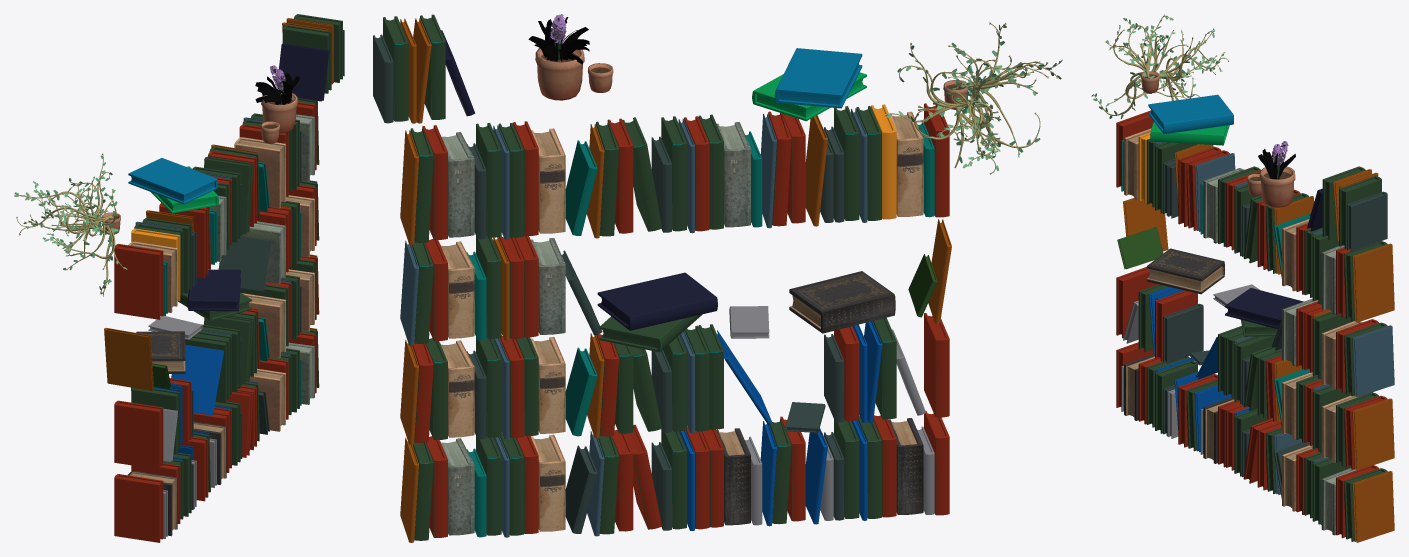
The model's file is shedBookshelfStuff.fbx.
3 renders of one model, left to right at view 1: azimuth 30°, elevation 25°; view 2: azimuth 150°, elevation 25°; view 3: azimuth 270°, elevation 25°, orthographic. The views are drawn at different scales.
Parts seen in each view (by area): view 1: book2 (×3), book4 (×7), book8 (×9), book5 (×8), book3 (×5), book10 (×4), book14 (×3), vineplant:vineLeafy1Main, book21, book25, book11 (×4), book32 (+19 smaller); view 2: book4 (×7), book8 (×9), book5 (×9), book11 (×8), book6 (×8), book12 (×8), book13 (×9), book9 (×10), book10 (×4), book3 (×7), book7 (×7), book2 (×3) (+32 smaller); view 3: book13 (×9), book8 (×9), book4 (×7), book5 (×9), book11 (×8), book12 (×8), book6 (×8), book10 (×4), book2 (×3), book14 (×4), vineplant:vineLeafy1Main, book9 (×2) (+26 smaller).
Boxes of the visible parts, x1,y1,x2,y2 form: book2 (×3): (114, 243, 163, 542); book4 (×7): (128, 137, 285, 536); book8 (×9): (169, 113, 299, 516); book5 (×8): (131, 124, 288, 523); book3 (×5): (163, 162, 270, 461); book10 (×4): (286, 114, 314, 404); book14 (×3): (204, 156, 253, 457); vineplant:vineLeafy1Main: (14, 153, 124, 294); book21: (104, 328, 153, 391); book25: (128, 158, 218, 204); book11 (×4): (181, 151, 256, 501); book32: (279, 43, 329, 101); book4 (×7): (530, 122, 923, 531); book8 (×9): (476, 116, 859, 535); book5 (×9): (513, 114, 896, 533); book11 (×8): (422, 118, 805, 537); book6 (×8): (498, 116, 881, 535); book12 (×8): (410, 121, 791, 540); book13 (×9): (400, 115, 827, 542); book9 (×10): (467, 136, 844, 537); book10 (×4): (440, 132, 474, 535); book3 (×7): (561, 131, 934, 533); book7 (×7): (493, 118, 867, 537); book2 (×3): (924, 103, 949, 515); book13 (×9): (1174, 144, 1394, 542); book8 (×9): (1155, 184, 1351, 524); book4 (×7): (1124, 168, 1318, 511); book5 (×9): (1138, 166, 1321, 514); book11 (×8): (1178, 189, 1378, 538); book12 (×8): (1186, 193, 1387, 541); book6 (×8): (1146, 170, 1328, 518); book10 (×4): (1321, 245, 1362, 535); book2 (×3): (1116, 110, 1157, 407); book14 (×4): (1167, 195, 1280, 483); vineplant:vineLeafy1Main: (1093, 15, 1229, 115); book9 (×2): (1163, 163, 1203, 363).
Bounding box in the file's own units: 75.11 × 65.5 × 49.72.
